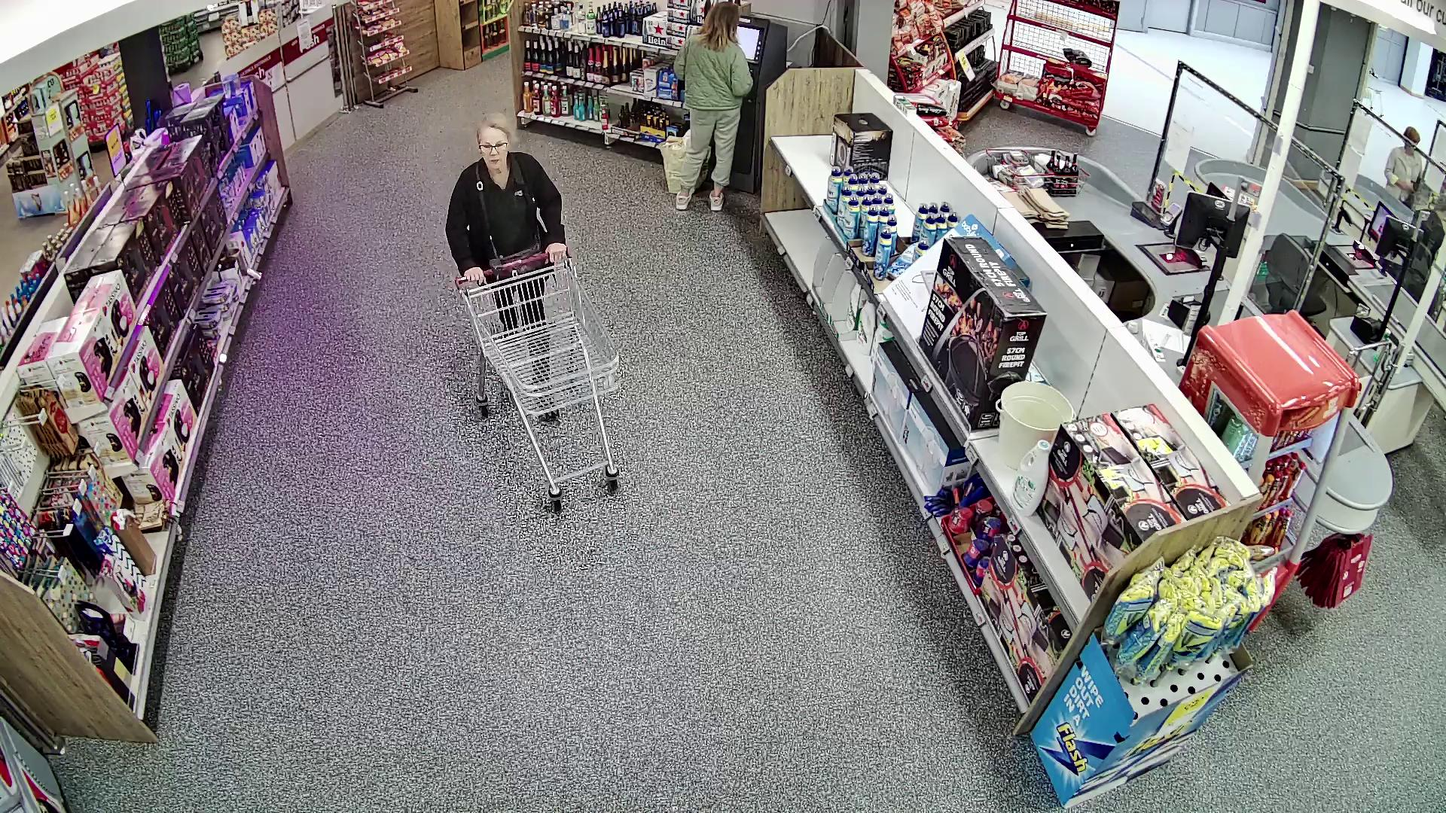backpack-or-handbag: (487, 248, 545, 286)
empty-trolly: (454, 245, 621, 513)
filled-shopping-bags: (656, 131, 711, 195)
person: (446, 117, 567, 418), (672, 2, 753, 211)
person-with-basket-trolly-and-backpack-handbag: (447, 116, 622, 510)
person-with-filled-shopping-bag-s-: (656, 2, 753, 211)
vacant-checkout-counter: (1022, 185, 1252, 345), (1258, 198, 1421, 330)
